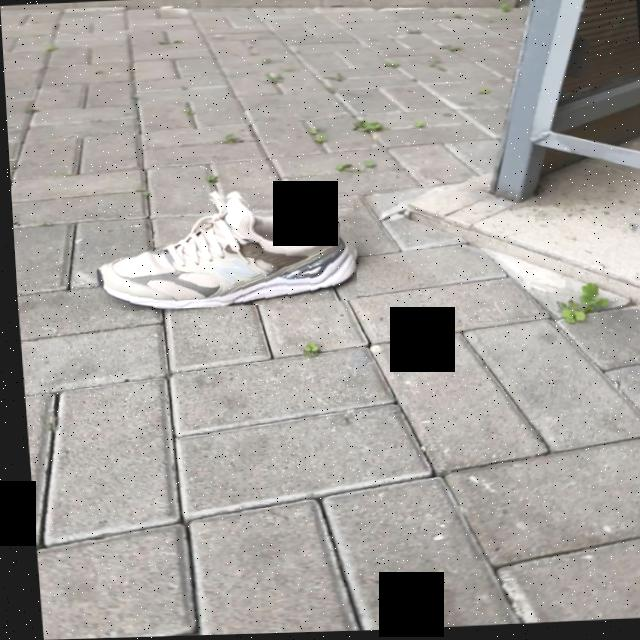shoe: (93, 198, 353, 310)
